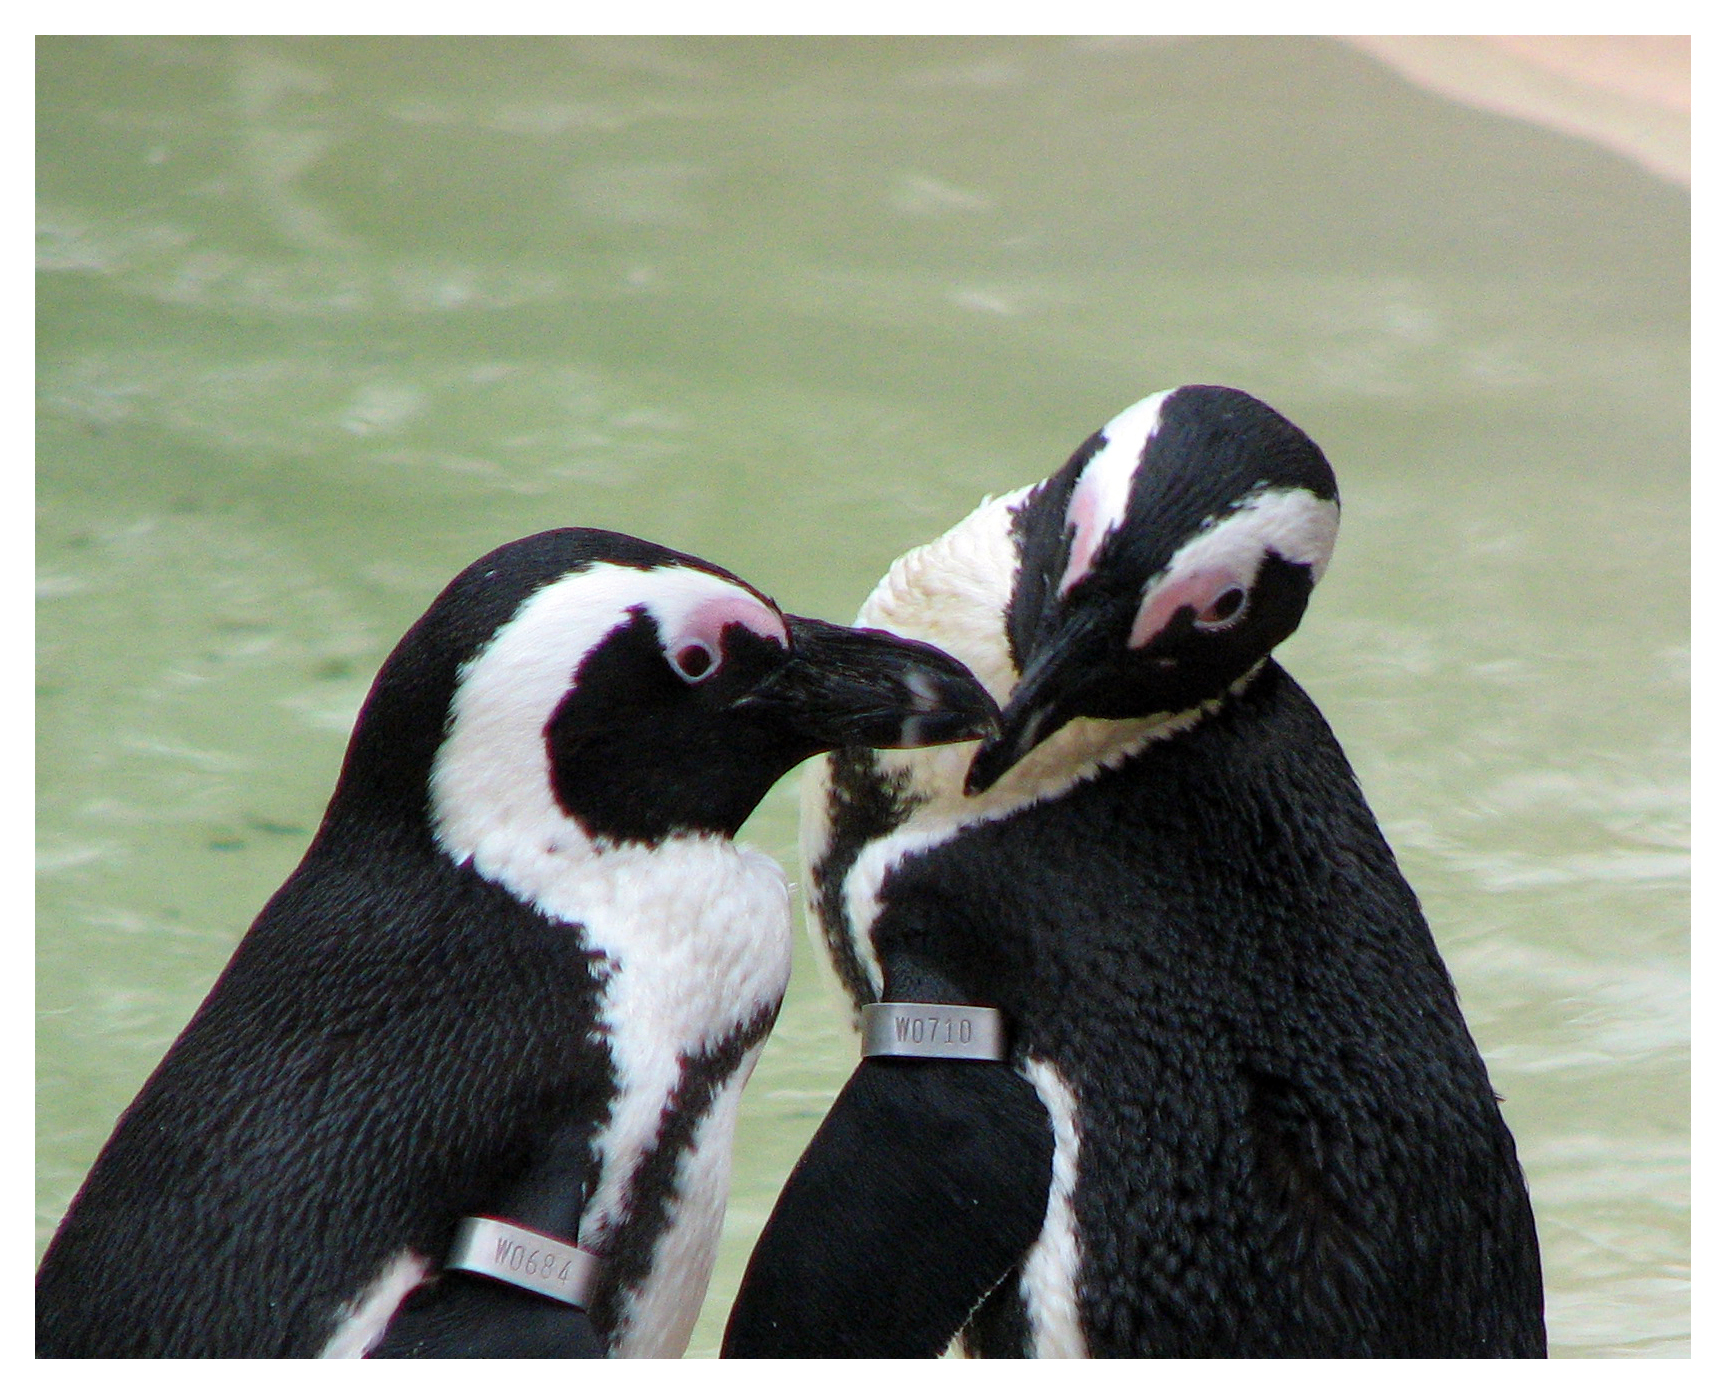penguin: (742, 369, 1545, 1395), (50, 518, 1005, 1374)
